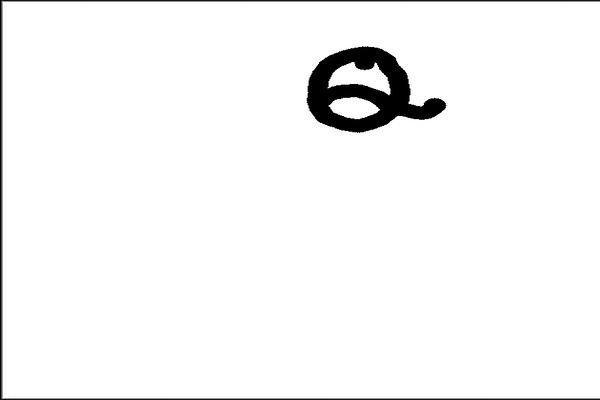Q: (301, 36, 448, 141)
